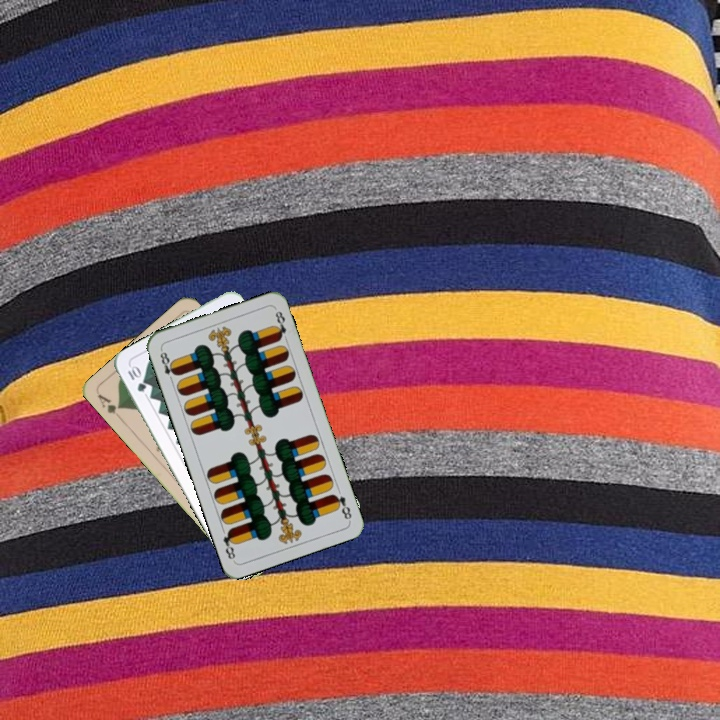E8: (156, 345, 180, 385), (329, 490, 354, 523)
G10: (123, 362, 149, 395)
GA: (93, 390, 124, 423)
